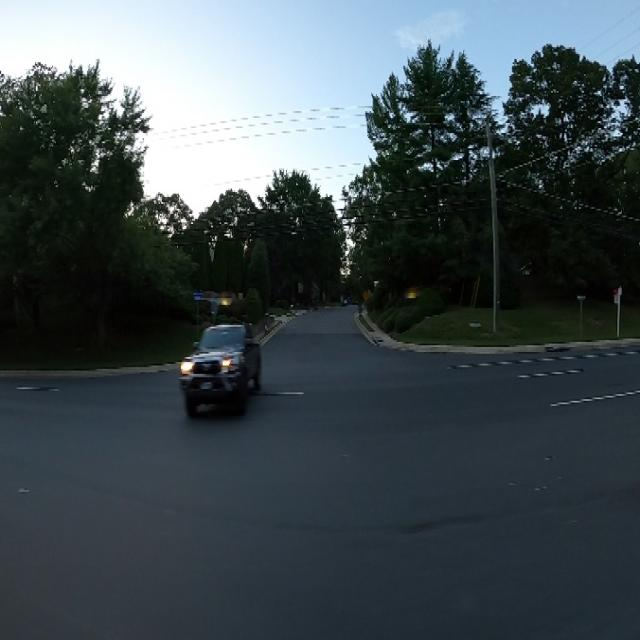Jeep: (183, 331, 258, 412)
